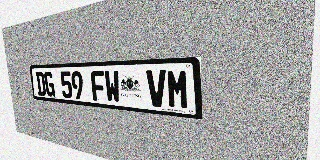5: (60, 71, 73, 99)
9: (70, 71, 84, 100)
D: (35, 72, 46, 96)
F: (90, 71, 106, 102)
G: (44, 72, 55, 97)
M: (166, 69, 190, 110)
V: (146, 70, 167, 108)
W: (104, 70, 121, 103)
